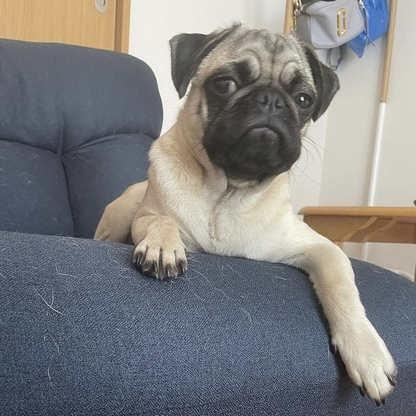Pug: (85, 19, 404, 411)
